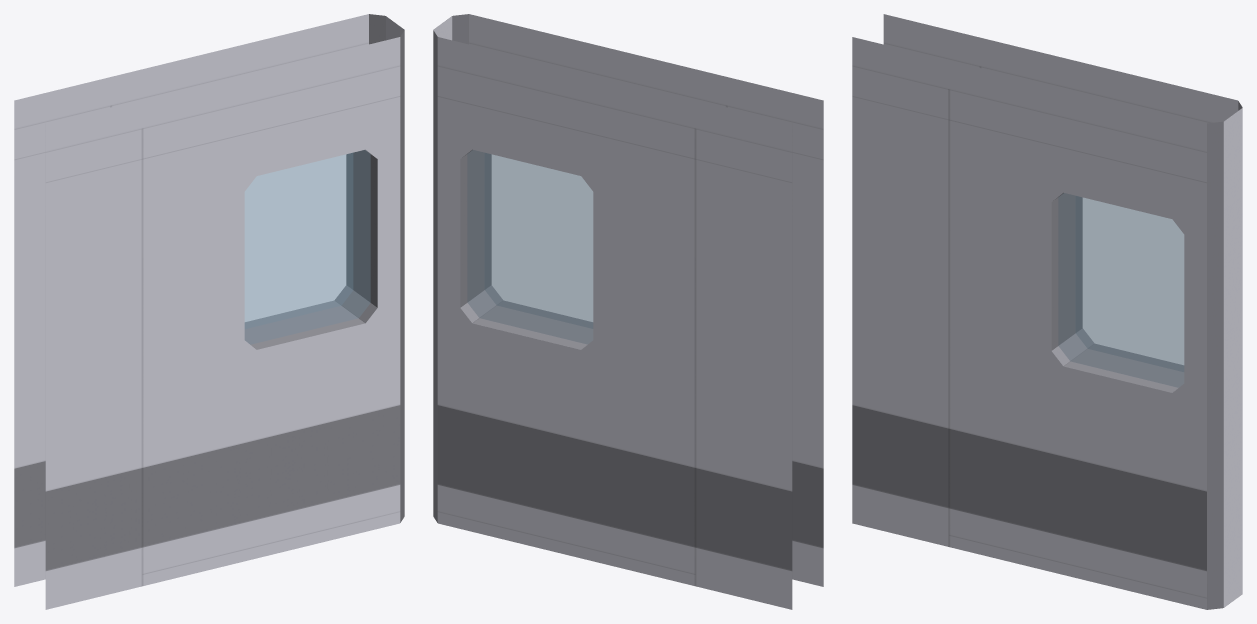
The model's file is Door_Left_01.FBX.
3 views of the same model, side by side, from view 1: azimuth 30°, elevation 25°; view 2: azimuth 150°, elevation 25°; view 3: azimuth 330°, elevation 25° (orthographic).
Parts seen in each view (by area): view 1: Door_Left_01; view 2: Door_Left_01; view 3: Door_Left_01.
Boxes of the visible parts, <box> form: Door_Left_01: <box>14,14,404,609</box>; Door_Left_01: <box>433,14,823,609</box>; Door_Left_01: <box>852,14,1242,609</box>.
Bounding box in the file's own units: 2.75 × 3.5 × 0.408.
Materials: 2 (1 with a texture image).
